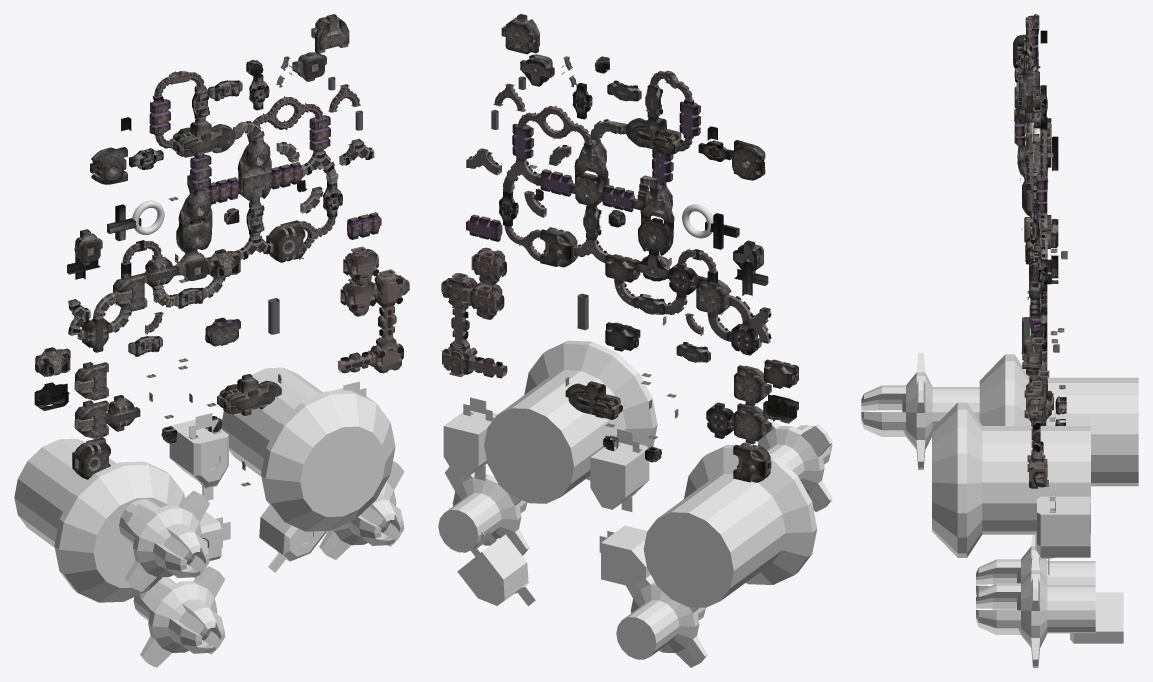
File: roomtest.gltf
3 renders of one model, left to right at view 1: azimuth 30°, elevation 25°; view 2: azimuth 150°, elevation 25°; view 3: azimuth 270°, elevation 25°, orthographic. The views are drawn at different scales.
Visible parts, largest first — view 1: Cylinder.028, Cylinder.029, Cylinder.030, Cylinder.031, Cube.119, Cylinder.032, Cube.118, Cube.033, Cube.001, Cube.003, Cube.066, Cube.068 (+31 smaller); view 2: Cylinder.029, Cylinder.028, Cylinder.031, Cylinder.032, Cylinder.030, Cube.118, Cube.119, Cube.120, Cube.117, Cube.001, Cube.033, Cube.068 (+33 smaller); view 3: Cylinder.028, Cylinder.029, Cylinder.032, Cylinder.030, Cube.120, Cylinder.031, Cube.118, Plane.002, Plane, Plane.005, Cube.067, Cube.003 (+1 smaller).
Part boxes in pixels (<box>): Cylinder.028: <box>221,367,395,531</box>; Cylinder.029: <box>14,438,184,602</box>; Cylinder.030: <box>119,490,209,591</box>; Cylinder.031: <box>133,566,225,667</box>; Cube.119: <box>169,413,228,500</box>; Cylinder.032: <box>319,461,404,559</box>; Cube.118: <box>259,505,327,572</box>; Cube.033: <box>170,119,234,159</box>; Cube.001: <box>217,374,281,415</box>; Cube.003: <box>266,220,305,262</box>; Cube.066: <box>90,147,127,184</box>; Cube.068: <box>72,437,110,479</box>; Cylinder.029: <box>643,444,817,607</box>; Cylinder.028: <box>484,340,657,503</box>; Cylinder.031: <box>616,576,707,667</box>; Cylinder.032: <box>438,467,529,555</box>; Cylinder.030: <box>757,418,832,511</box>; Cube.118: <box>457,530,535,606</box>; Cube.119: <box>590,428,649,511</box>; Cube.120: <box>443,397,497,480</box>; Cube.117: <box>599,525,650,586</box>; Cube.001: <box>565,381,622,419</box>; Cube.033: <box>626,118,683,154</box>; Cube.068: <box>733,442,771,482</box>; Cylinder.028: <box>932,402,1090,557</box>; Cylinder.029: <box>979,354,1138,486</box>; Cylinder.032: <box>976,550,1095,667</box>; Cylinder.030: <box>861,352,979,469</box>; Cube.120: <box>1037,482,1090,574</box>; Cylinder.031: <box>976,534,1095,609</box>; Cube.118: <box>1070,592,1123,643</box>; Plane.002: <box>1024,381,1045,420</box>; Plane: <box>1022,335,1043,375</box>; Plane.005: <box>1027,449,1048,488</box>; Cube.067: <box>1023,69,1039,112</box>; Cube.003: <box>1029,258,1047,302</box>.
Size of what is drawn, in the model's own units: 923 by 1483 by 589.
16 materials, 16 textured.
